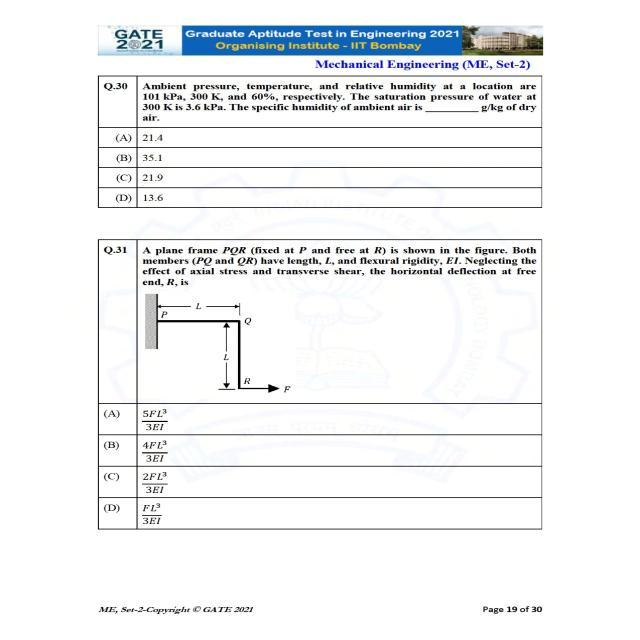Answer_Block: (94, 404, 542, 532), (96, 128, 548, 208)
Question_Answer_Block: (96, 238, 543, 532), (98, 76, 547, 208)
Question_Block: (98, 239, 542, 406), (99, 74, 552, 128)
Question_Paper_Area: (96, 57, 543, 531)
